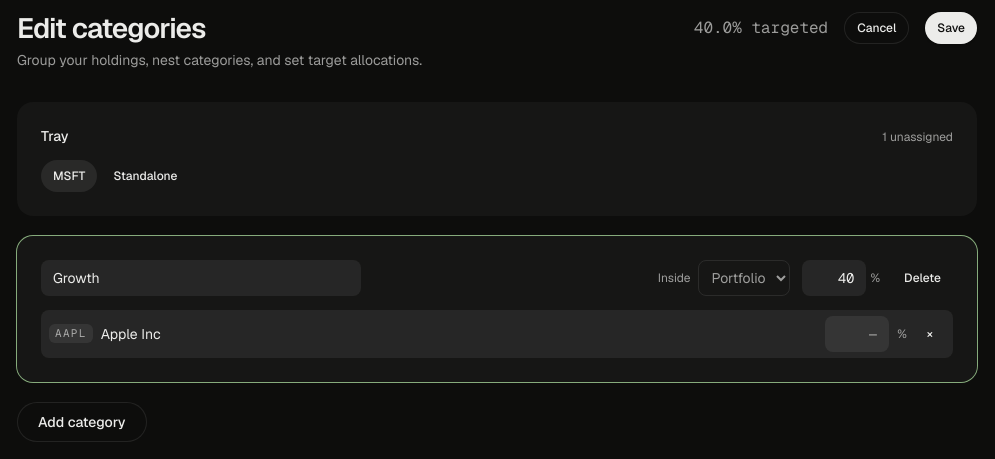
CategoriesEditor — selection follows deletes › includes a negative target in the headline sum instead of hiding it
Replace the text in the field showing "40" with "-10" at (834, 278), box [802, 260, 866, 296]
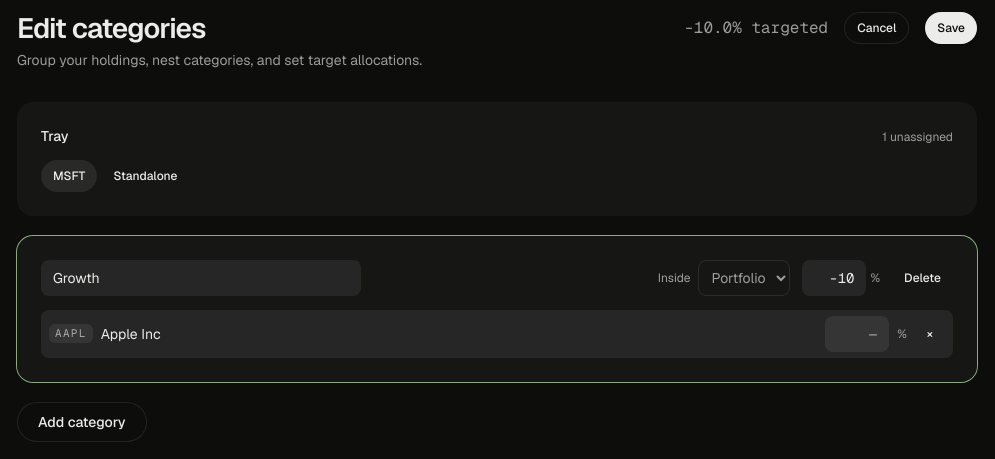
Now the text "-10.0% targeted" is shown, box [684, 16, 828, 40]
